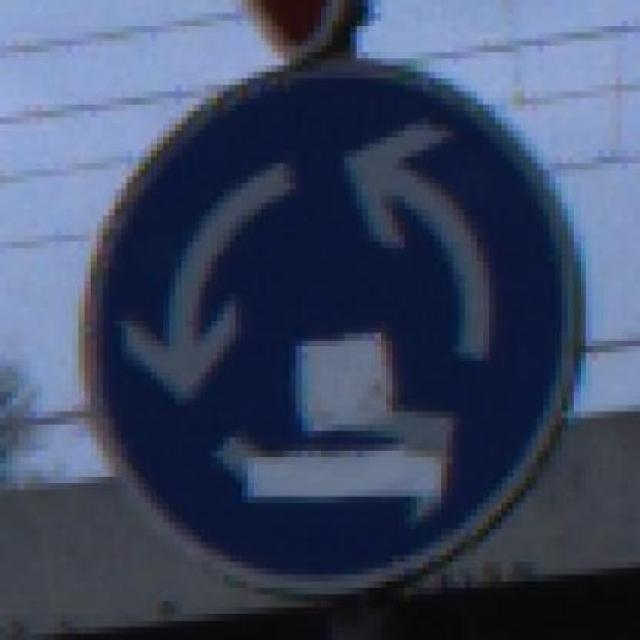Round-About: (55, 52, 598, 600)
